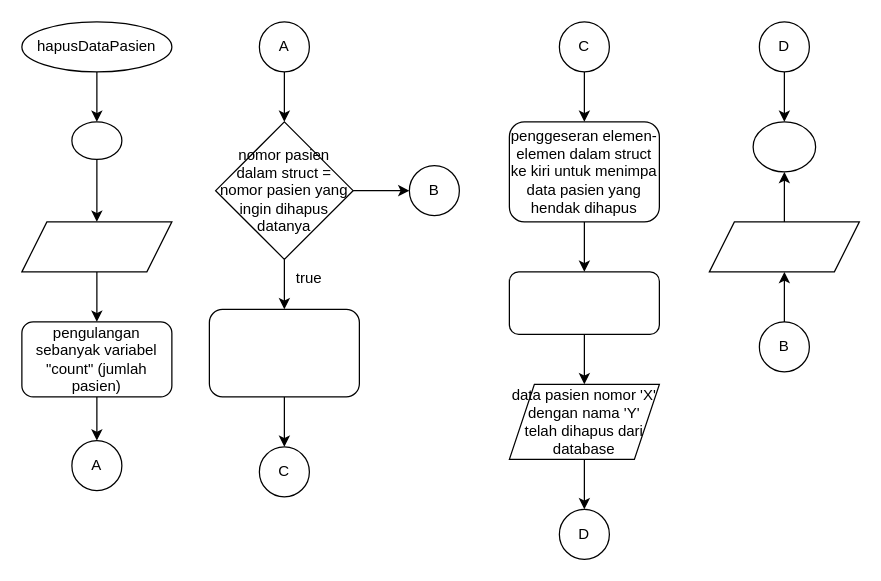
Some shapes in this 881 by 581 pixel diagram are drawn without their labels. Each missing label, with the centre of its shape:
data pasien tidak ditemukan: (x=783, y=246)
mulai: (x=96, y=140)
nomor pasien yang ingin dihapus datanya: (x=96, y=246)
pengulangan sebanyak variabel "count" (jumlah pasien) dikurang satu: (x=283, y=352)
selesai: (x=784, y=146)
variabel "count" (jumlah pasien) dikurang satu: (x=583, y=302)
